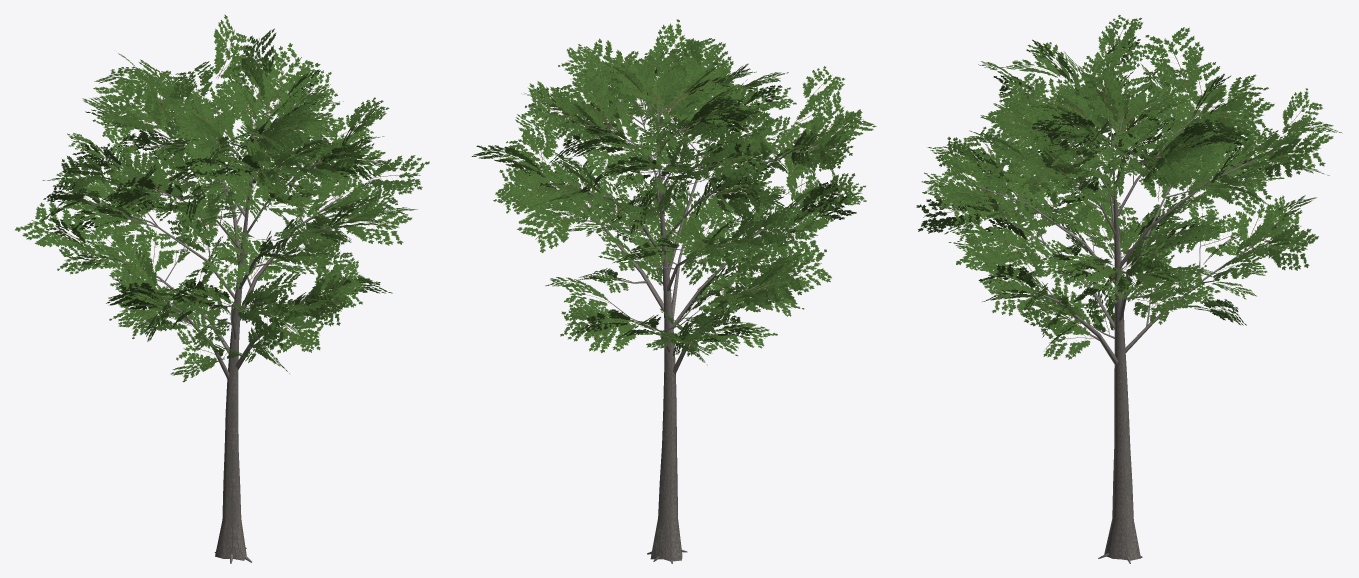
File: RedMaple.fbx
The picture shows the model from 3 angles, left to right: view 1: azimuth 30°, elevation 25°; view 2: azimuth 150°, elevation 25°; view 3: azimuth 270°, elevation 25°; orthographic projection. The views are drawn at different scales.
Visible parts, largest first — view 1: Foliage, Bark; view 2: Foliage, Bark; view 3: Foliage, Bark.
Boxes of the visible parts, left/top/right/bottom form: Foliage: left=15, top=14, right=429, bottom=382; Bark: left=89, top=108, right=353, bottom=563; Foliage: left=471, top=19, right=876, bottom=365; Bark: left=559, top=93, right=818, bottom=563; Foliage: left=916, top=15, right=1342, bottom=359; Bark: left=966, top=83, right=1266, bottom=563.
Bounding box in the file's own units: 15.45 × 20.05 × 16.12.
